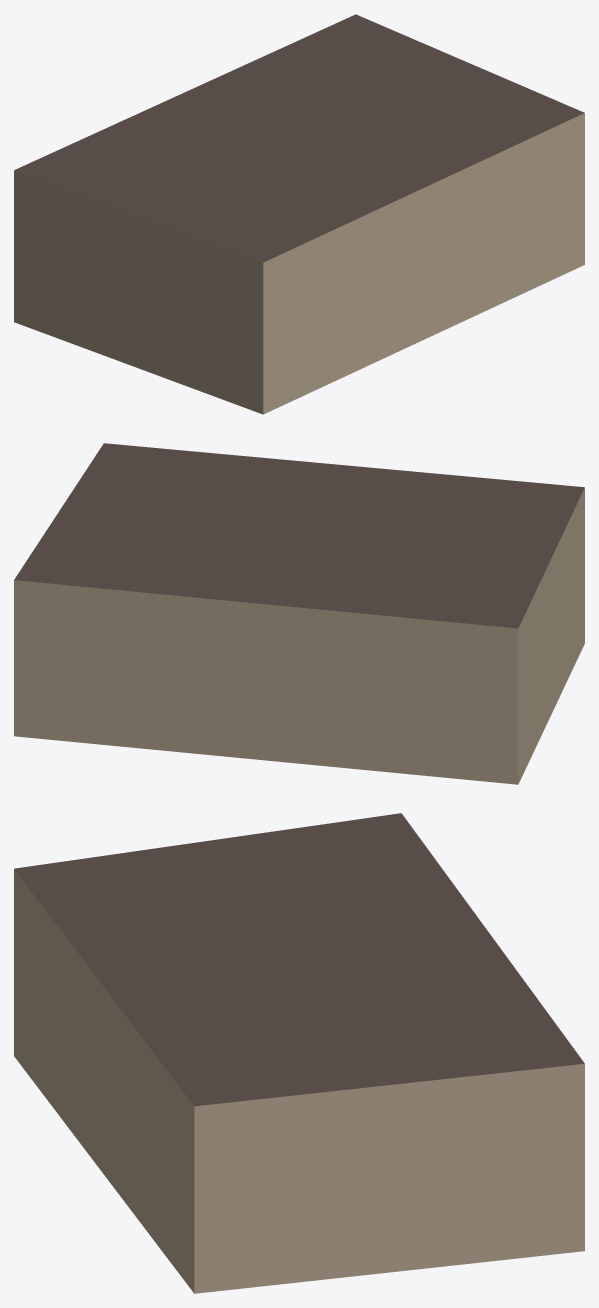
3 renders of one model, top to bottom at view 1: azimuth 30°, elevation 25°; view 2: azimuth 150°, elevation 25°; view 3: azimuth 270°, elevation 25°, orthographic. The views are drawn at different scales.
Parts seen in each view (by area): view 1: HP-w1512359797; view 2: HP-w1512359797; view 3: HP-w1512359797.
Boxes of the visible parts, <box> form: HP-w1512359797: <box>14,14,584,414</box>; HP-w1512359797: <box>14,443,584,784</box>; HP-w1512359797: <box>14,813,584,1293</box>.
Bounding box in the file's own units: 30.2 × 9 × 24.85.
